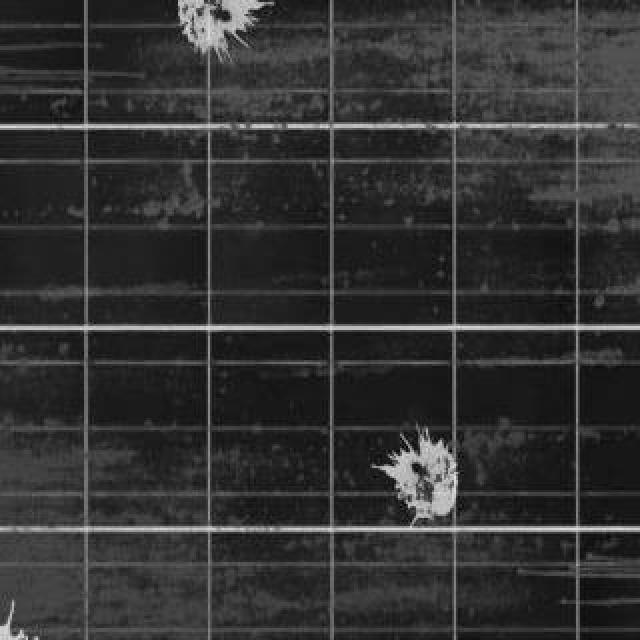Physical-damage: (367, 421, 465, 535), (157, 0, 280, 60), (0, 592, 30, 640)
